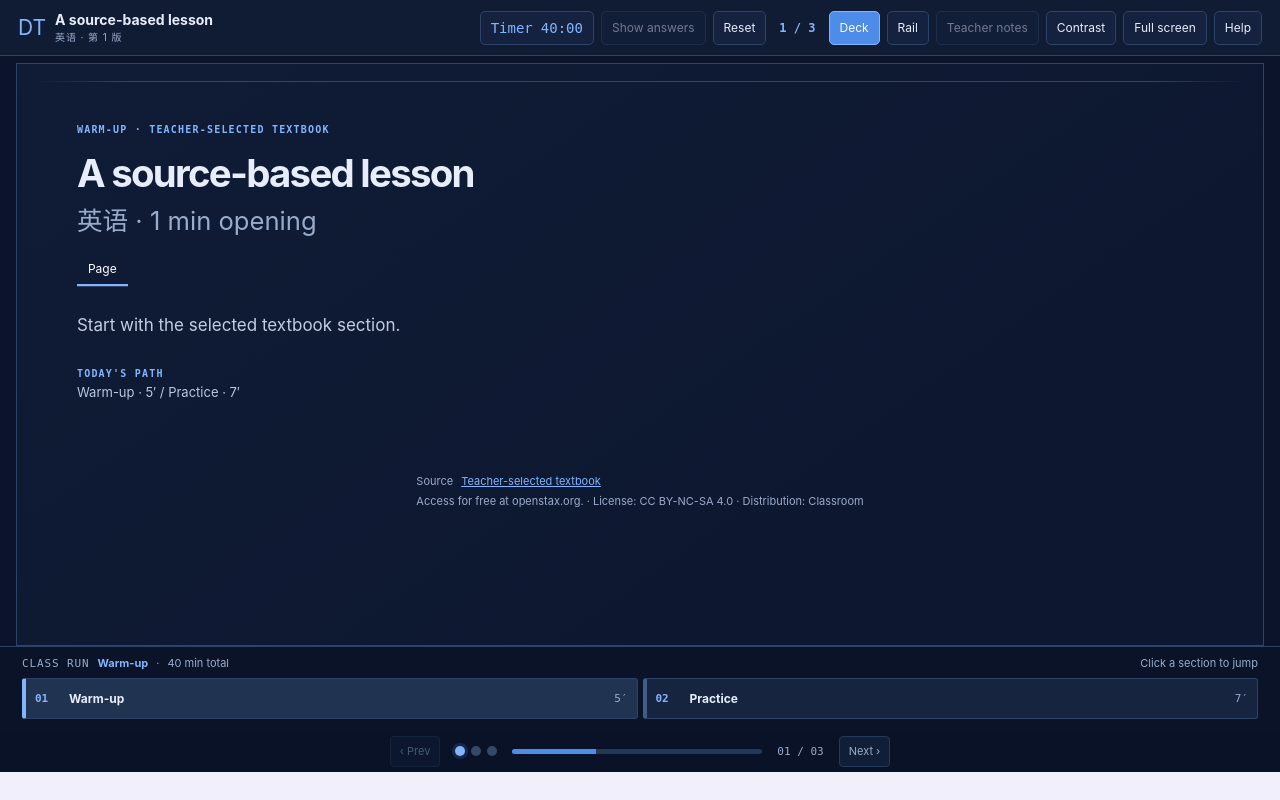
Test case: CoursewarePlayer user flows › user_submits_optional_practice_and_receives_feedback_without_answer_data
The width and height of the screenshot is (1280, 800).
Click the button with aria-label "Practice · 7 min": (714, 698) [642, 678, 1258, 719]
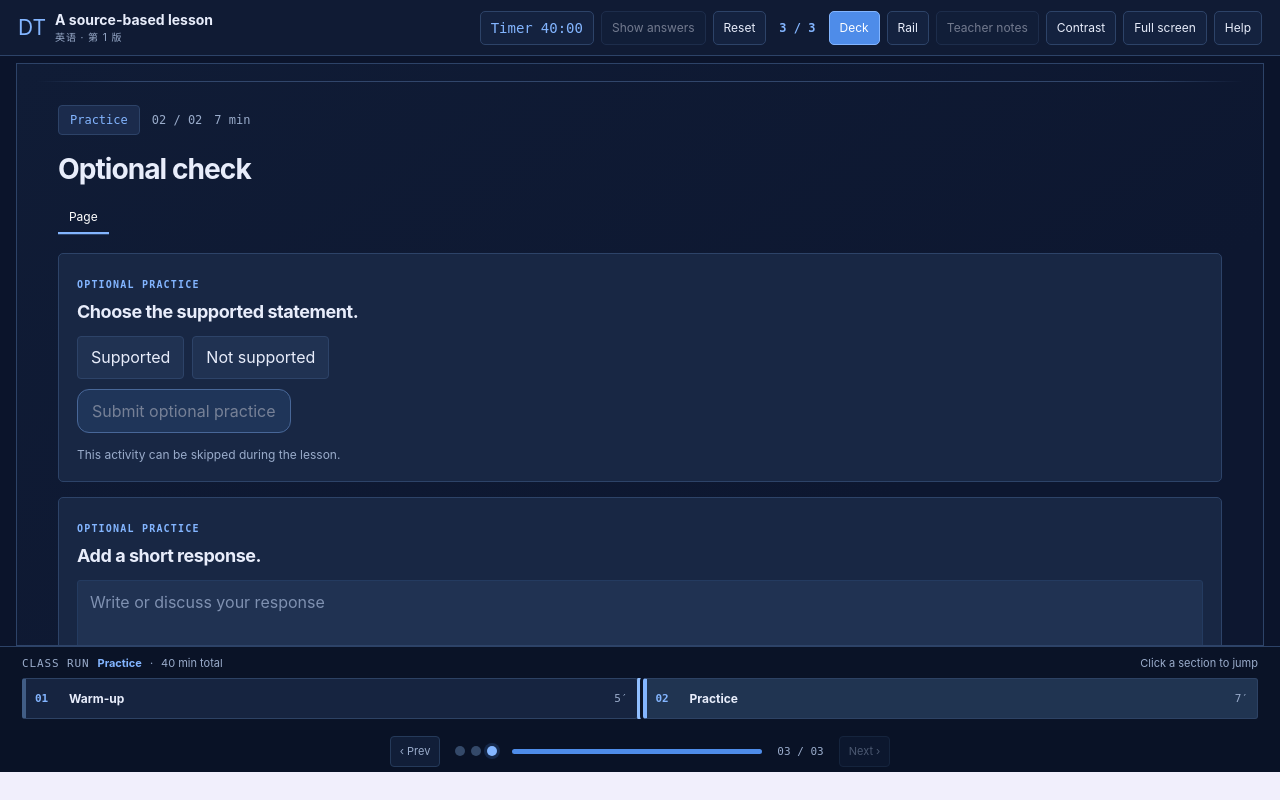
Click the button "Supported": (131, 357) [77, 336, 184, 378]
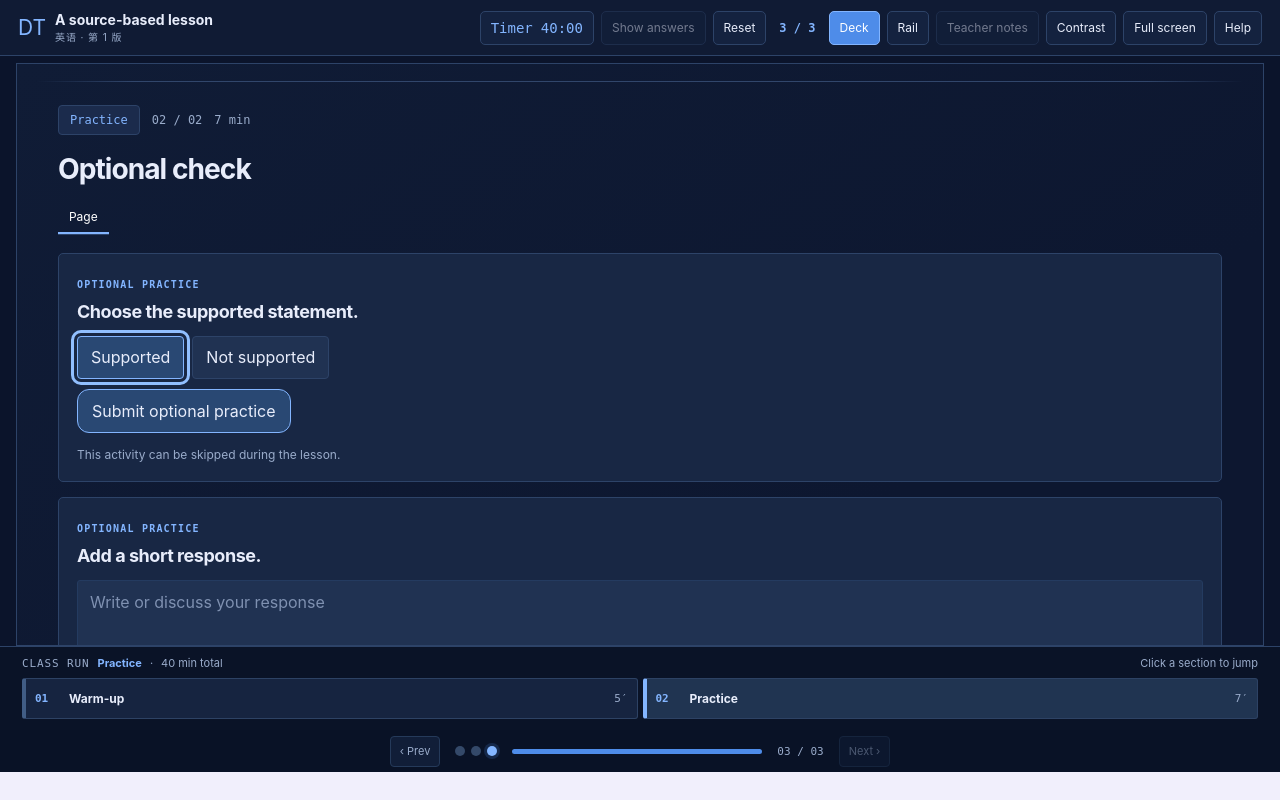
Click the button with aria-label "Submit practice: Choose the supported statement.": (184, 411) [77, 388, 291, 433]
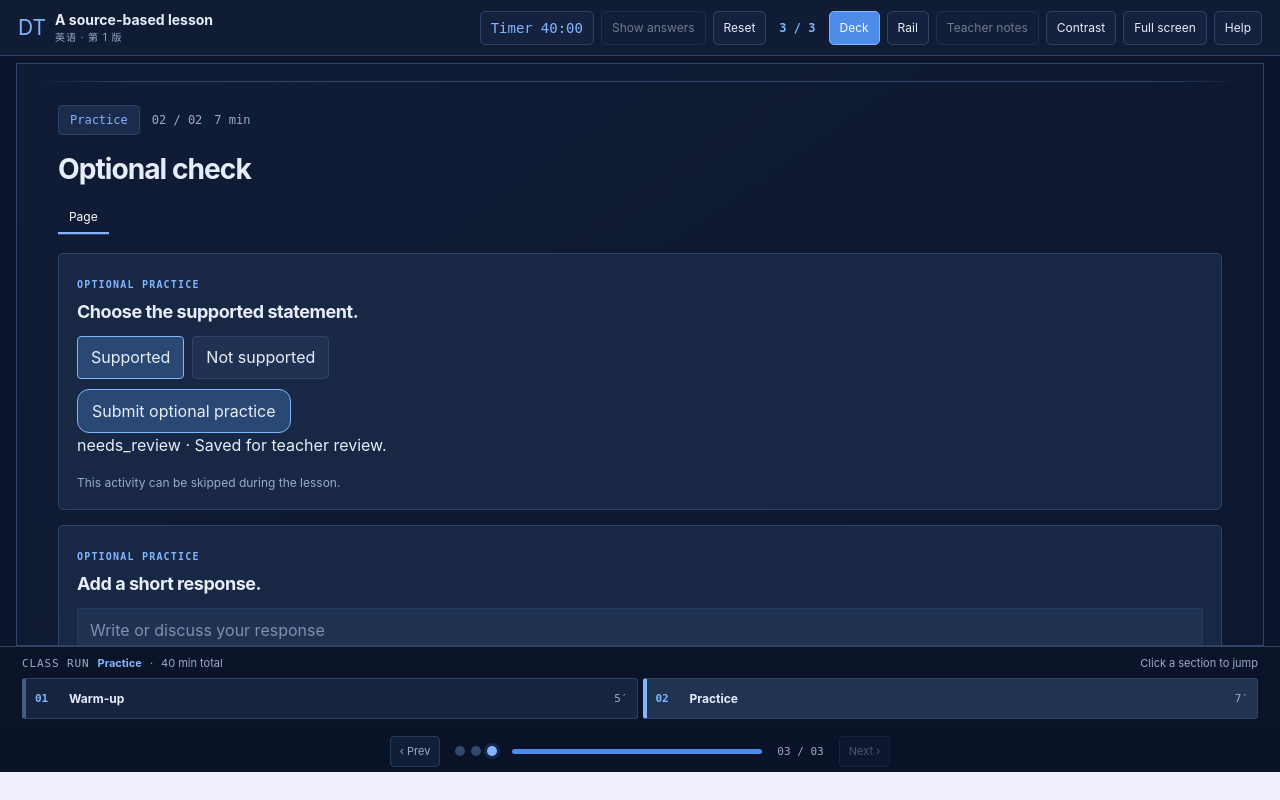
Now the message reads "needs_review · Saved for teacher review.", box [77, 435, 387, 455]
